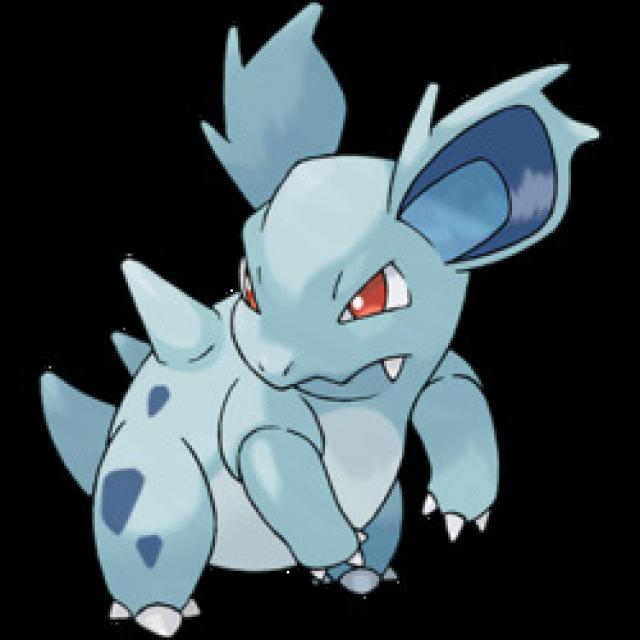Nidorina: (34, 0, 593, 640)
